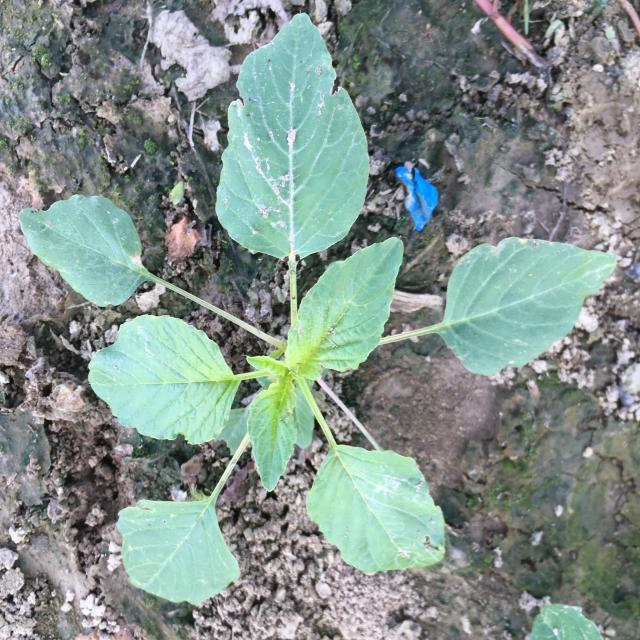PalmerAmaranth: (19, 12, 618, 604)
